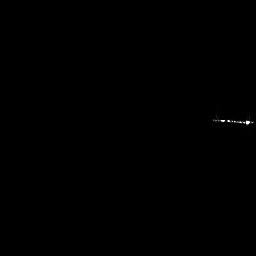ship: (212, 115, 254, 127)
